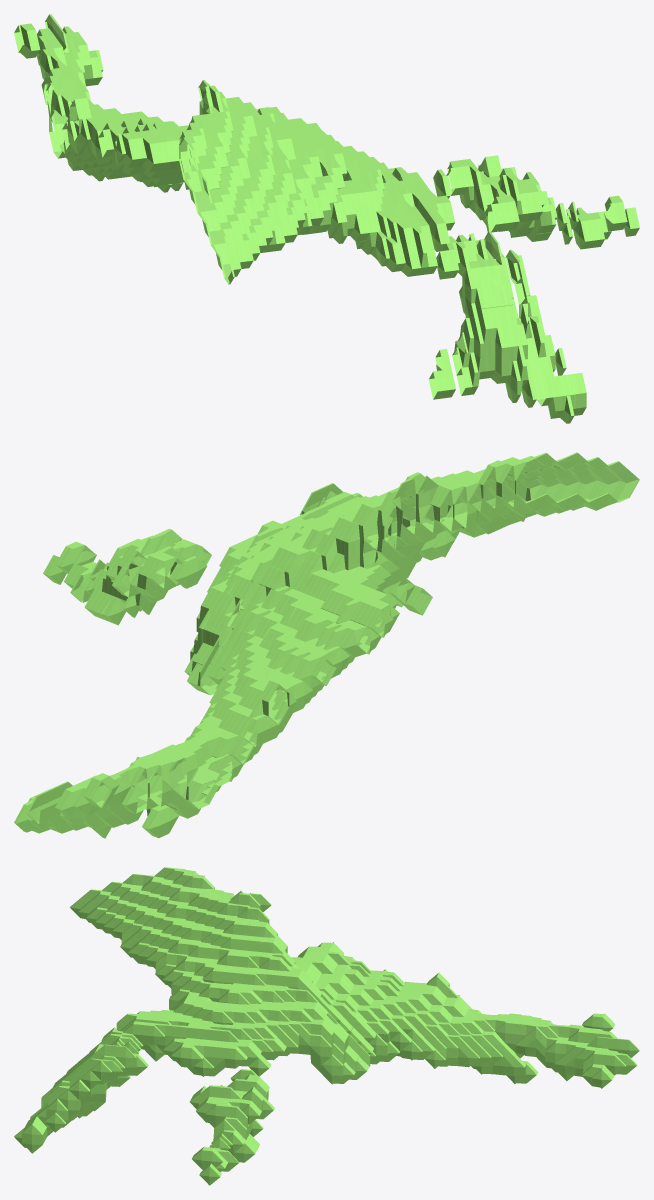
Rendered from SVV_BWM-VL07.gltf.
3 views of the same model, one above another, from view 1: azimuth 30°, elevation 25°; view 2: azimuth 150°, elevation 25°; view 3: azimuth 270°, elevation 25° (orthographic). The views are drawn at different scales.
Parts seen in each view (by area): view 1: BWM-VL07; view 2: BWM-VL07; view 3: BWM-VL07.
Part boxes in pixels (x1=…): BWM-VL07: x1=14, y1=14, x2=639, y2=423; BWM-VL07: x1=14, y1=452, x2=639, y2=838; BWM-VL07: x1=14, y1=867, x2=639, y2=1185.
Size of the model in its own units: 24802 by 12522 by 38143.
